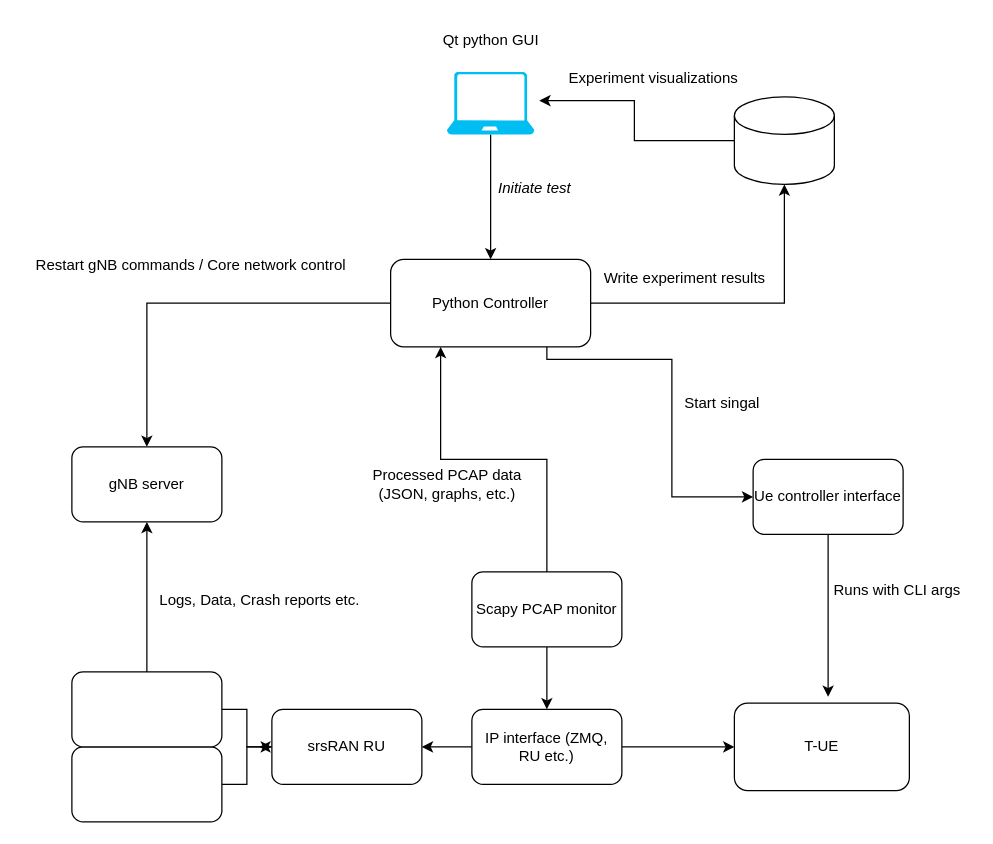
The diagram is 993 pixels wide and 844 high, and some of its shapes have lost their labels. The shapes that lost their labels are listed below. From the top down, each one's centre as x and y in pixels, then its label:
At (x=783, y=140): "Sqlite3 results Database".
At (x=146, y=709): "srsRAN DU".
At (x=146, y=784): "srsRAN CU".
